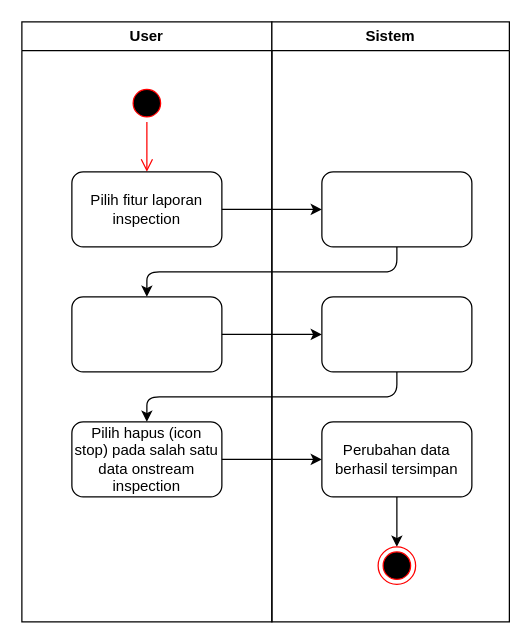
Some shapes in this 531 by 644 pixel diagram are drawn without their labels. Here are the shapes that lost their labels. From the top down, the centre of each, then its label:
point (396, 209): Menampilkan halaman laporan inspection
point (146, 334): Pilih detail (icon settings) pada salah satu data laporan inspection
point (396, 334): Menampilkan halaman onstream inspection
